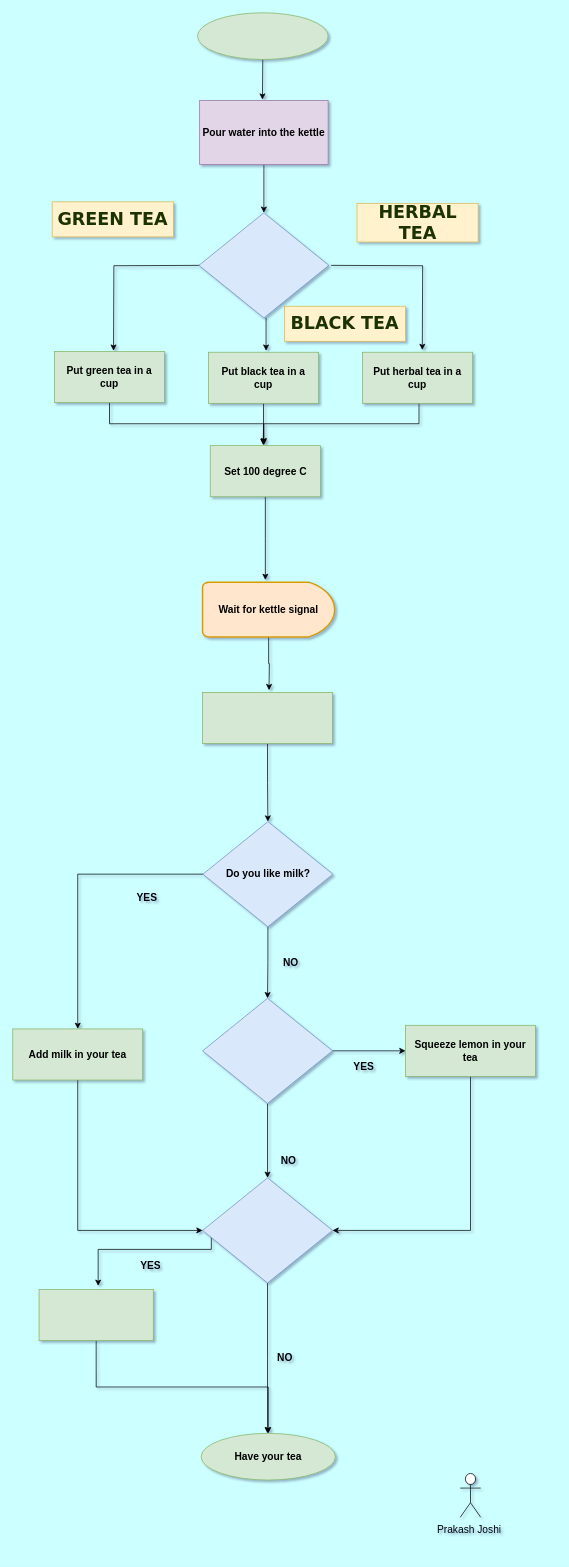
The diagram is 569 pixels wide and 1567 high, and some of its shapes have lost their labels. Here are the shapes that lost their labels. From the top down, the centre of each, then its label:
the point at 262,35: Tea time
the point at 263,265: Choose a tea
the point at 267,718: Pour water into the cup
the point at 267,1050: Do you like lemon?
the point at 267,1230: Do you like sweet?
the point at 95,1315: Add honey or sugar to your tea
